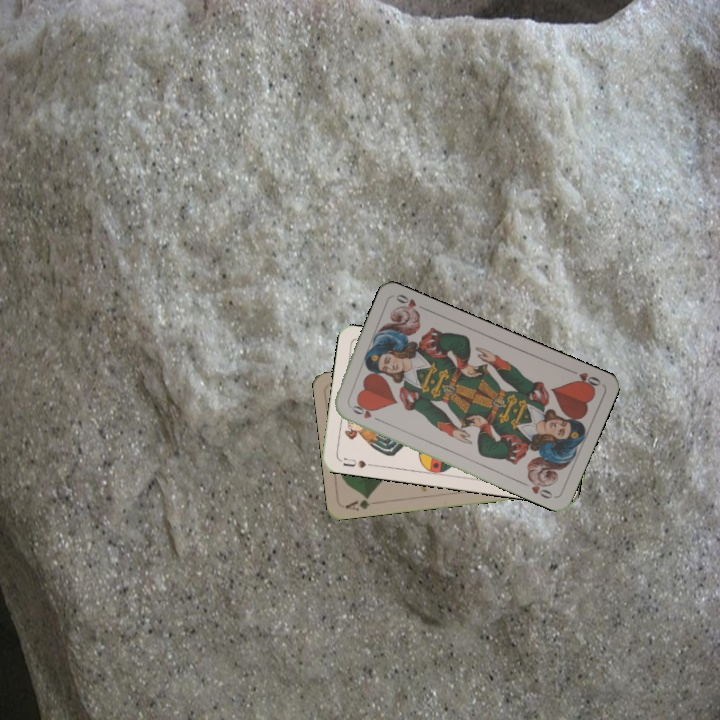GA: (341, 492, 373, 513)
HO: (565, 365, 603, 392), (345, 401, 384, 424)
SU: (339, 453, 376, 470)
